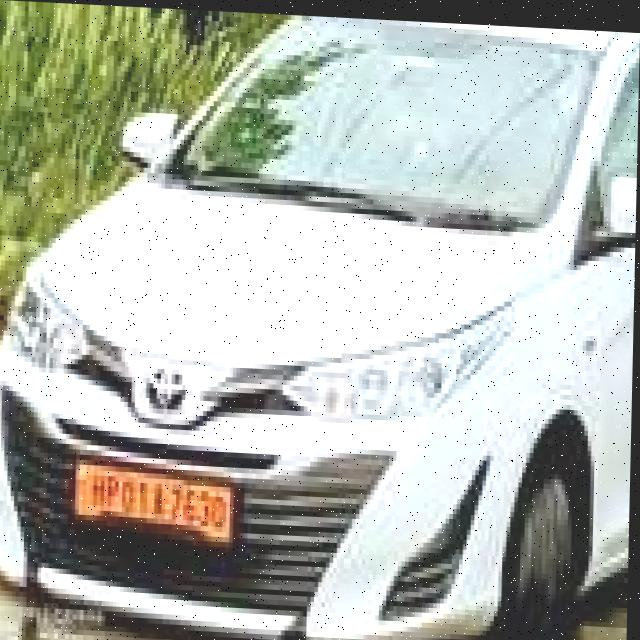plate: (79, 461, 238, 551)
